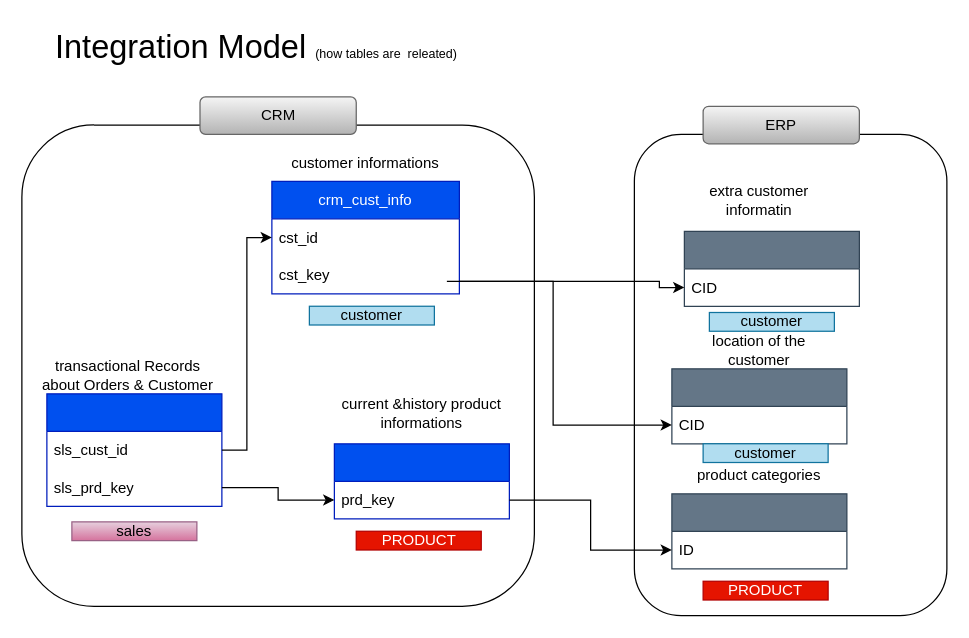
The diagram is 969 pixels wide and 638 high, and some of its shapes have lost their labels. The box of each missing label's shape, as (x1, y1, x2, y2) in pixels:
crm_prd_info: (333, 442, 509, 519)
crm_sales_info: (46, 392, 222, 506)
erp_cust_az12: (683, 230, 859, 306)
erp_loc_a101: (671, 368, 847, 444)
erp_px_cat_g1v2: (671, 492, 847, 569)
